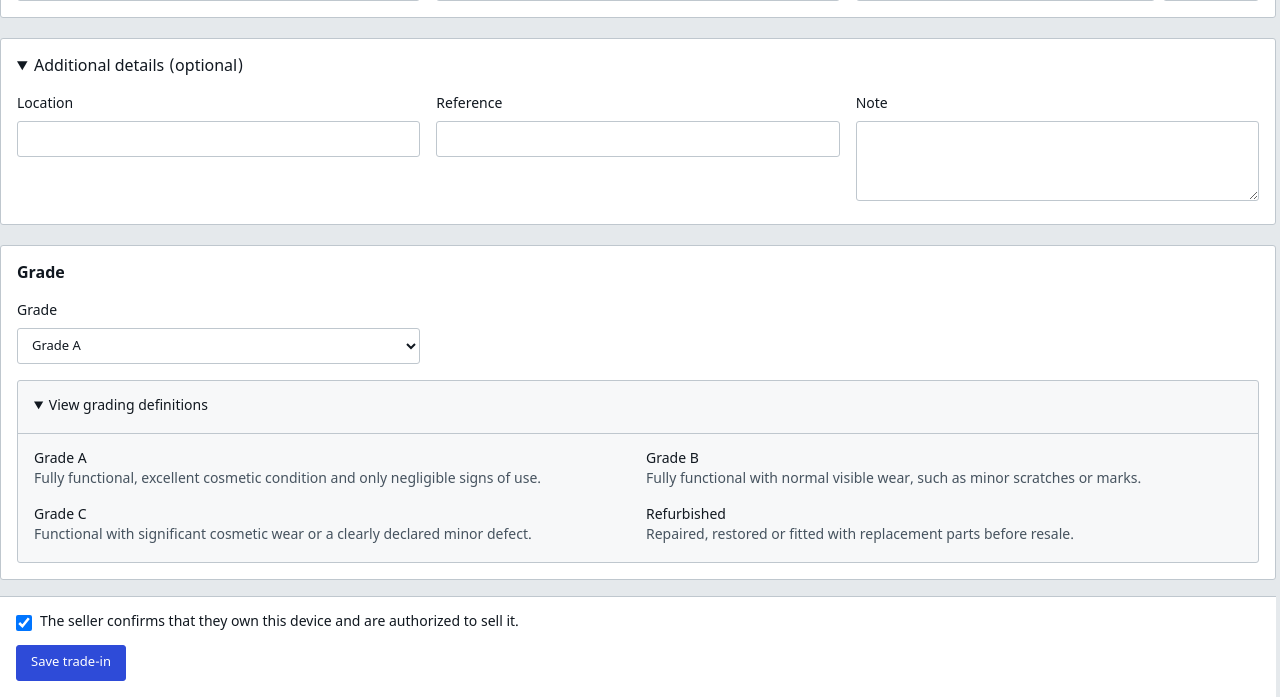
it: shared intake and checkout panel interactions › opens sections initially and validates ownership beside the bottom action
(page scrolled)
Click the checkbox at (24, 623), box [16,615,32,631]
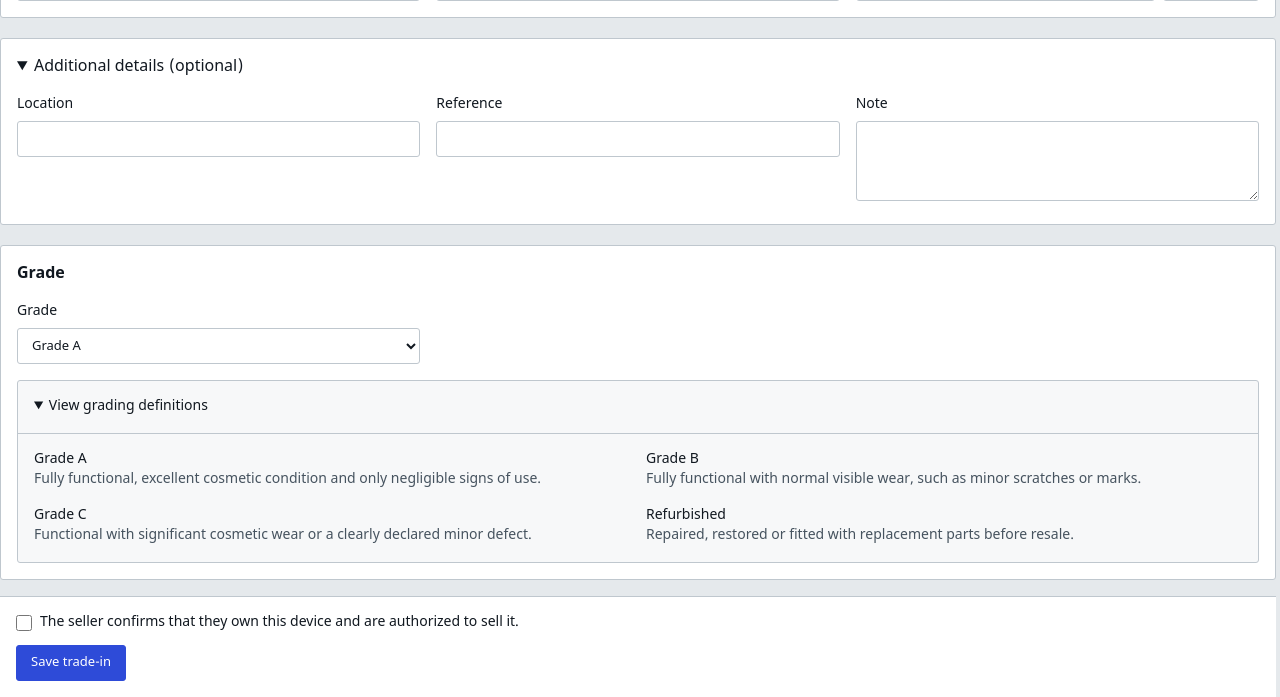
Click the button "Save trade-in" at (71, 663), box [16,645,126,681]
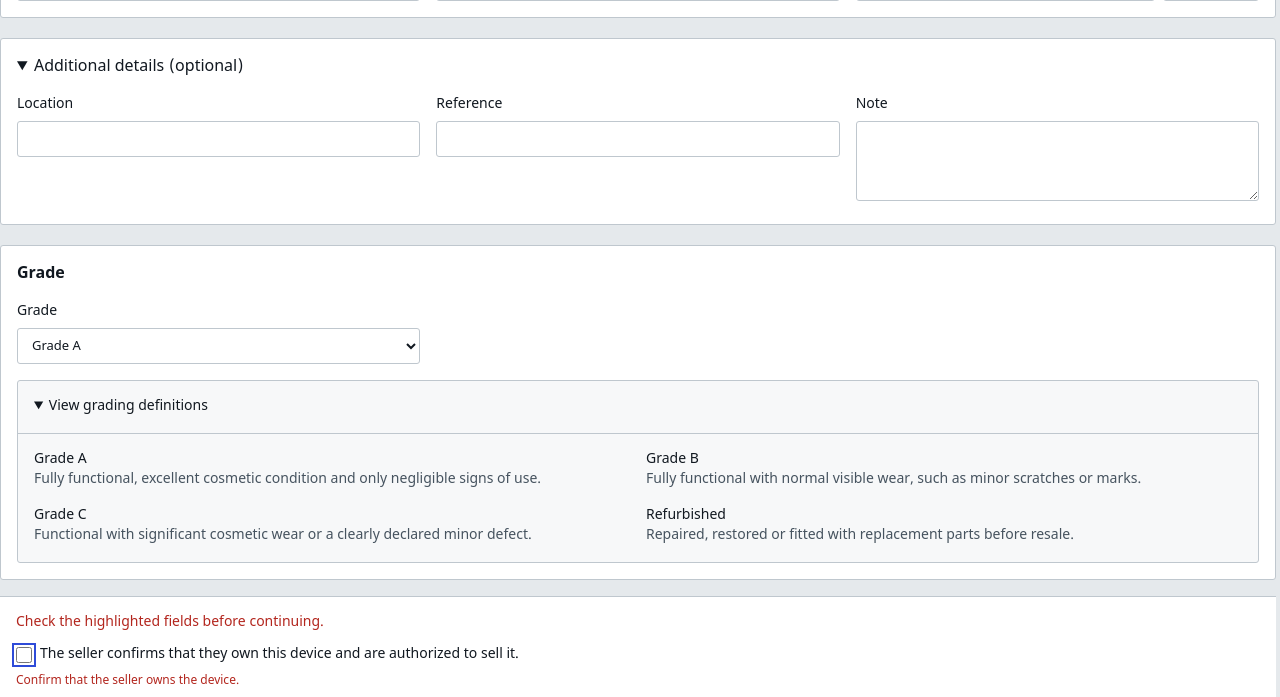
Result: the text "Confirm that the seller owns the device." is shown at [16,673,239,689]
